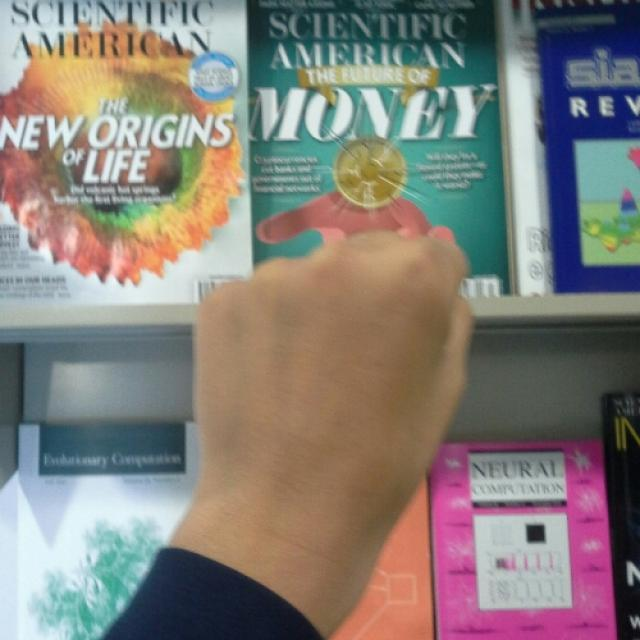rock: (192, 228, 471, 518)
